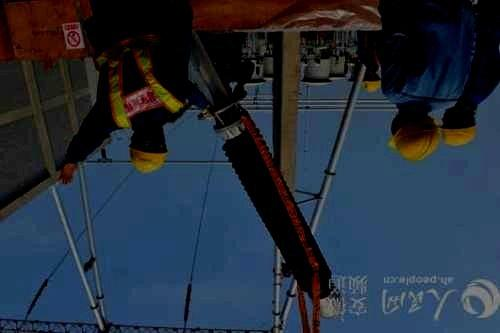helmet: (388, 110, 441, 164), (128, 123, 169, 175), (441, 107, 480, 148), (362, 70, 382, 95)
